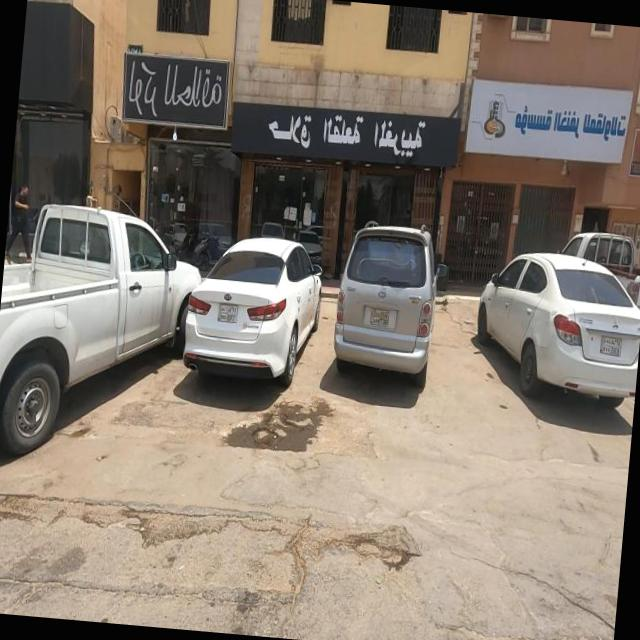debris: (319, 456, 460, 620), (244, 449, 352, 640), (202, 364, 360, 489)
